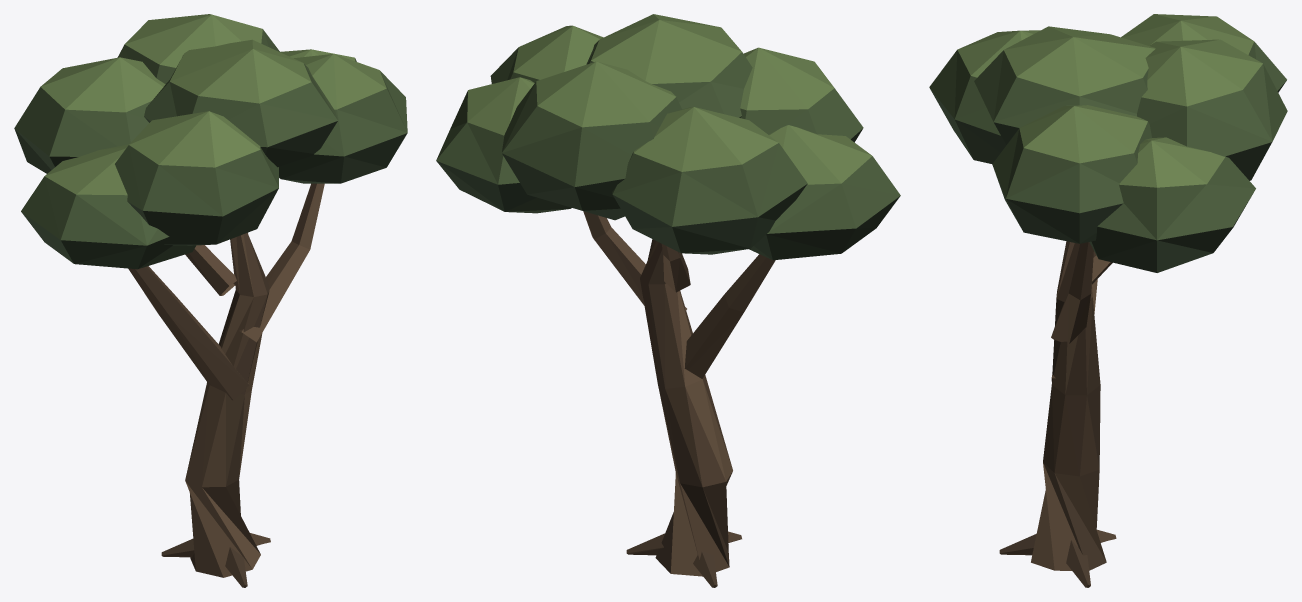
The model's file is tree_garden.glb.
3 views of the same model, side by side, from view 1: azimuth 30°, elevation 25°; view 2: azimuth 150°, elevation 25°; view 3: azimuth 270°, elevation 25° (orthographic). The views are drawn at different scales.
Parts seen in each view (by area): view 1: Canopy_Garden, Body_tree_garden.001; view 2: Canopy_Garden, Body_tree_garden.001; view 3: Canopy_Garden, Body_tree_garden.001.
Part boxes in pixels (x1,y1,x2,y2): Canopy_Garden: (14, 14, 407, 269); Body_tree_garden.001: (128, 183, 324, 587); Canopy_Garden: (436, 14, 900, 260); Body_tree_garden.001: (583, 211, 775, 587); Canopy_Garden: (929, 14, 1287, 272); Body_tree_garden.001: (999, 241, 1116, 587).
Size of the model in its own units: 3.82 by 5 by 3.01.
